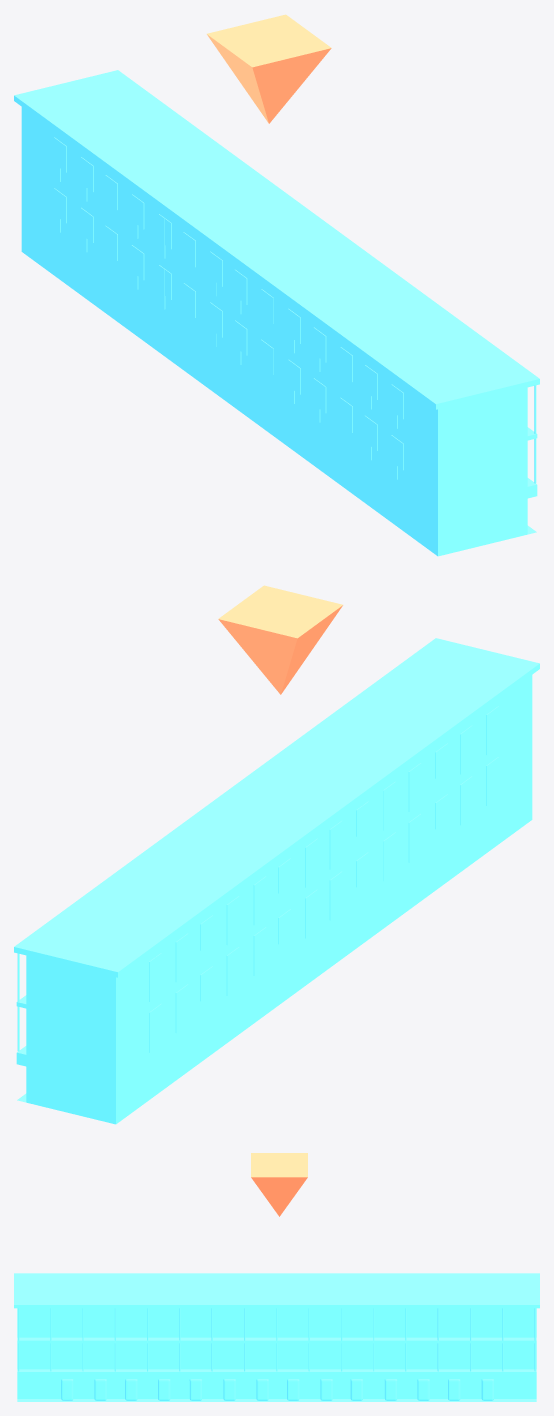
3 renders of one model, top to bottom at view 1: azimuth 30°, elevation 25°; view 2: azimuth 150°, elevation 25°; view 3: azimuth 270°, elevation 25°, orthographic. The views are drawn at different scales.
Parts seen in each view (by area): view 1: subject, fire-mark; view 2: subject, fire-mark; view 3: subject, fire-mark.
Boxes of the visible parts, x1,y1,x2,y2 form: subject: (14, 70, 539, 556); fire-mark: (207, 14, 331, 123); subject: (14, 638, 539, 1124); fire-mark: (218, 585, 342, 694); subject: (14, 1273, 539, 1401); fire-mark: (251, 1153, 307, 1216).
Size of the model in its own units: 7.66 by 24.77 by 53.75.
